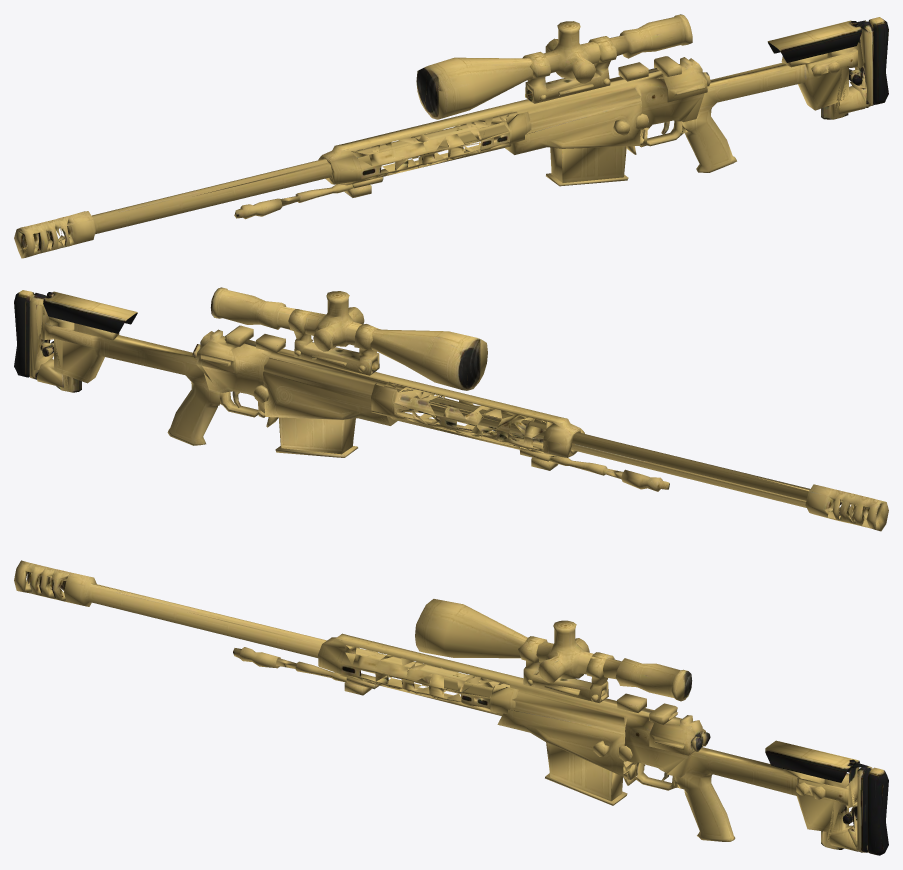
Rendered from arma_cecchino.glb.
3 views of the same model, one above another, from view 1: azimuth 30°, elevation 25°; view 2: azimuth 150°, elevation 25°; view 3: azimuth 330°, elevation 25° (orthographic).
Bounding box in the file's own units: 0.9536 × 0.1894 × 0.0625.
1 material, 1 textured.
